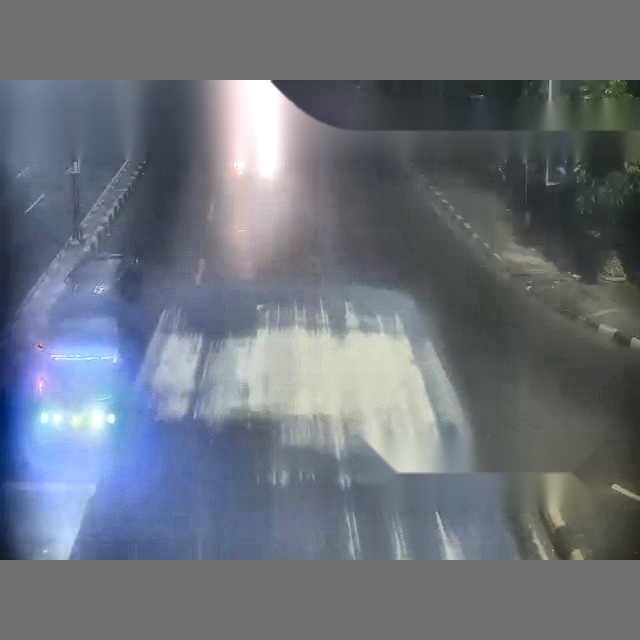Bis: (2, 248, 375, 557)
